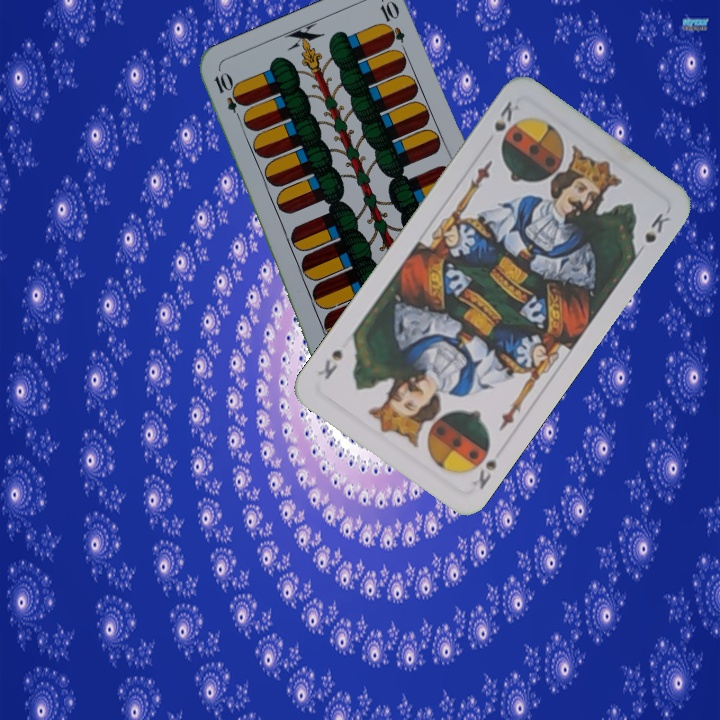E10: (210, 68, 247, 126)
SK: (490, 96, 519, 145), (467, 456, 500, 492)
